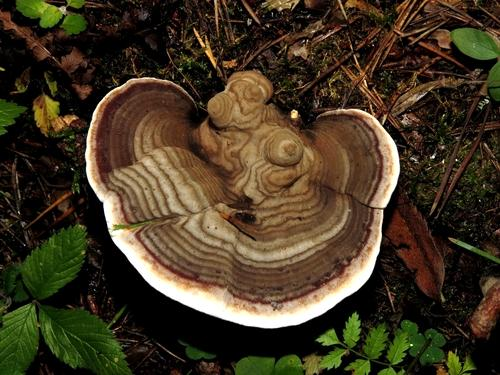Ganoderma - Fruit Body: (88, 72, 398, 329)
